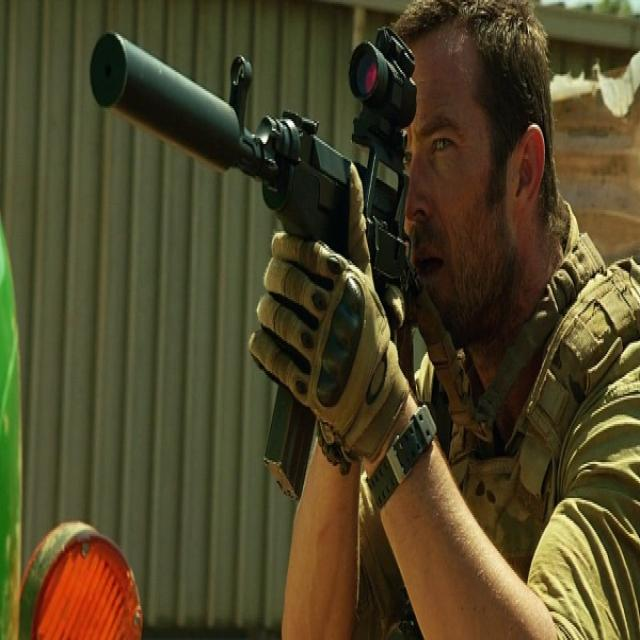rifle: (83, 11, 452, 489)
